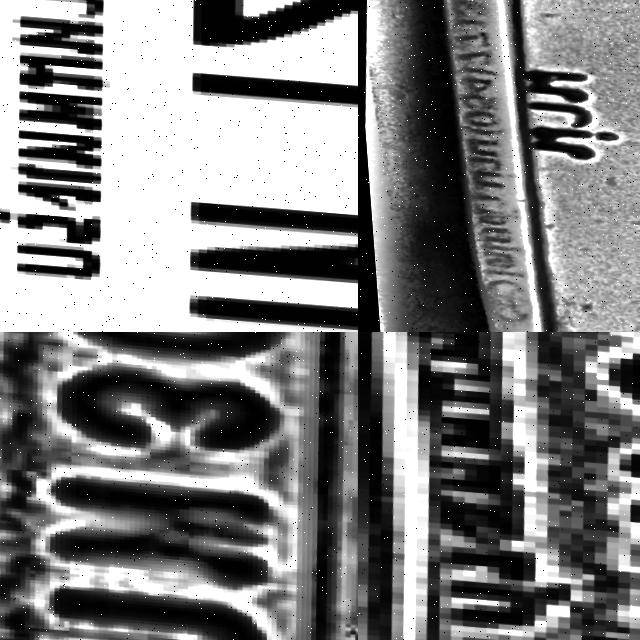license-plate: (0, 0, 358, 332), (0, 332, 358, 640), (374, 0, 640, 332), (358, 332, 640, 640)
